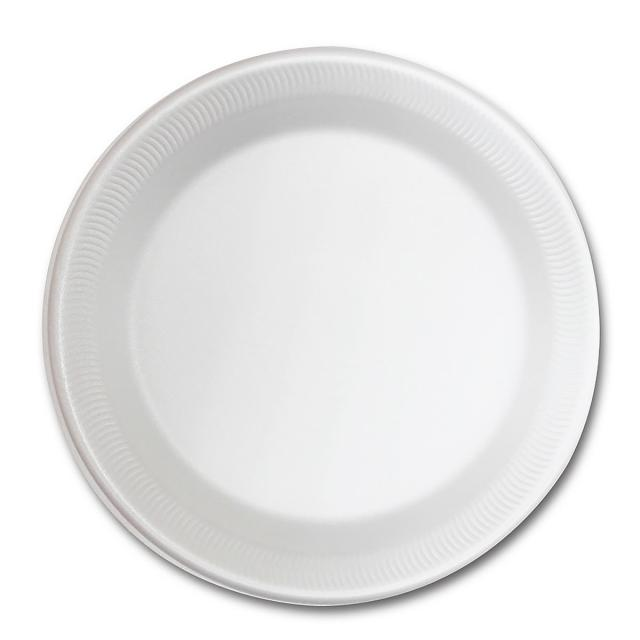foam: (24, 39, 620, 616)
